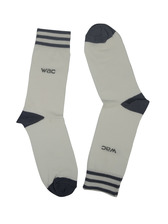sock: (76, 22, 151, 200), (16, 26, 80, 195)
